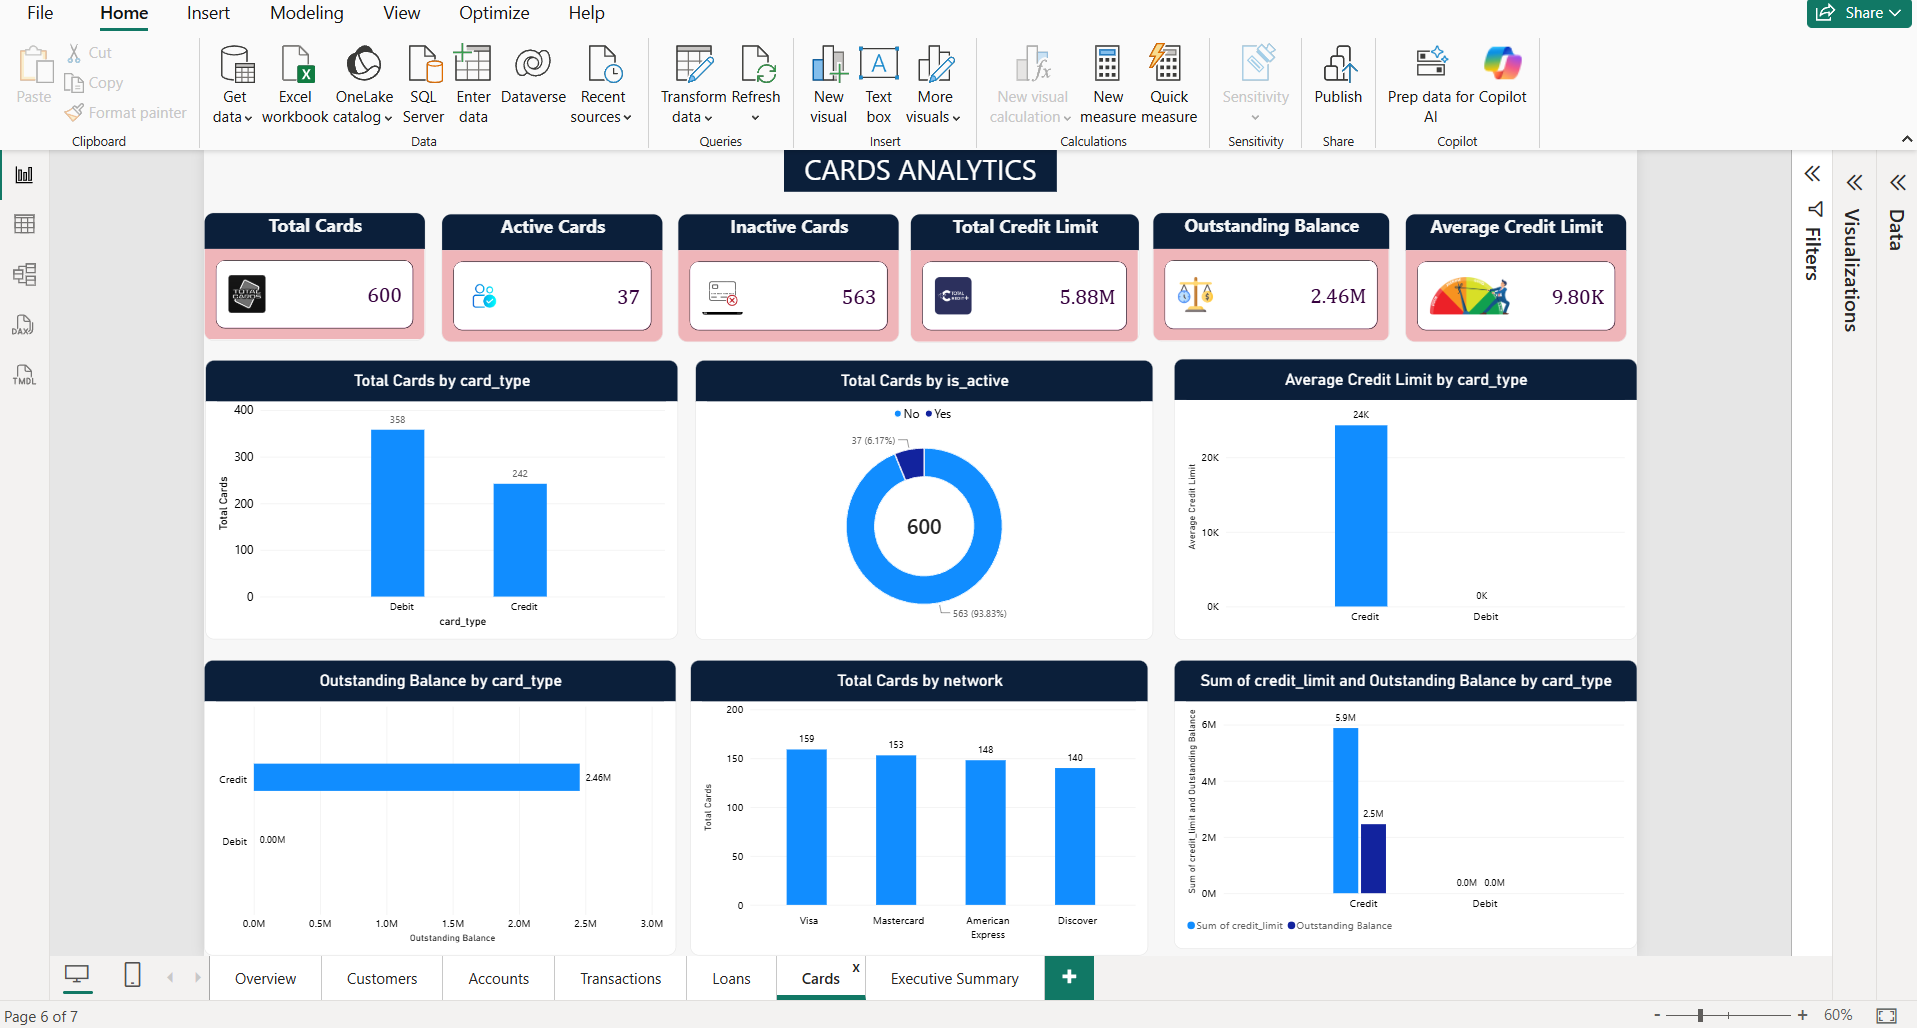

The page's visual inventory and layout, read from the dashboard file:
{"tool":"powerbi","page":{"name":"Cards","canvas":[1920,1080],"ordinal":5},"visuals":[{"type":"textbox","box":[776.3,0,365.6,56.1],"z":0},{"type":"cardVisual","title":"Total Cards","fields":{"Data":["cards (2).Total Cards"]},"box":[0,83.2,296.8,171.9],"z":1000},{"type":"cardVisual","title":"Active Cards","fields":{"Data":["cards (2).Active Cards"]},"box":[317.4,85.5,297,172],"z":2000},{"type":"cardVisual","title":"Inactive Cards","fields":{"Data":["cards (2).Inactive Cards"]},"box":[634.9,85.5,297,172],"z":3000},{"type":"cardVisual","title":"Total Credit Limit","fields":{"Data":["cards (2).Total Credit Limit"]},"box":[947.1,85.5,307,172.7],"z":4000},{"type":"cardVisual","title":"Outstanding Balance","fields":{"Data":["cards (2).Outstanding Balance"]},"box":[1271.5,83.7,317.4,172.7],"z":5000},{"type":"cardVisual","title":"Average Credit Limit","fields":{"Data":["cards (2).Average Credit Limit"]},"box":[1609.9,85.5,297,172],"z":6000},{"type":"clusteredColumnChart","fields":{"Category":["cards (2).card_type"],"Y":["cards (2).Total Cards"]},"box":[1.7,280.8,633.4,374.6],"z":7000},{"type":"donutChart","fields":{"Category":["cards (2).is_active"],"Y":["cards (2).Total Cards"]},"box":[657.6,280.8,614,375],"z":8000},{"type":"clusteredColumnChart","fields":{"Category":["cards (2).card_type"],"Y":["cards (2).Average Credit Limit"]},"box":[1299.4,279.1,620.9,376.7],"z":8001},{"type":"clusteredBarChart","fields":{"Category":["cards (2).card_type"],"Y":["cards (2).Outstanding Balance"]},"box":[0,683.7,633.1,395.9],"z":8002},{"type":"clusteredColumnChart","fields":{"Category":["cards (2).network"],"Y":["cards (2).Total Cards"]},"box":[652.3,683.7,614,395.9],"z":8003},{"type":"clusteredColumnChart","fields":{"Category":["cards (2).card_type"],"Y":["Sum(cards (2).credit_limit)","cards (2).Outstanding Balance"]},"box":[1299.4,683.7,620.7,387.3],"z":8004}]}

Visuals, with their boxes on the page's 1920x1080 design canvas (x1, y1, x2, y2). These are canvas units, not pixel positions in the 1917x1028 screenshot, which may show the page scaled, cropped or inside an application window:
textbox: crop(776, 0, 1142, 56)
"Total Cards" cardVisual: crop(0, 83, 297, 255)
"Active Cards" cardVisual: crop(317, 86, 614, 258)
"Inactive Cards" cardVisual: crop(635, 86, 932, 258)
"Total Credit Limit" cardVisual: crop(947, 86, 1254, 258)
"Outstanding Balance" cardVisual: crop(1272, 84, 1589, 256)
"Average Credit Limit" cardVisual: crop(1610, 86, 1907, 258)
clusteredColumnChart - cards (2).card_type x cards (2).Total Cards: crop(2, 281, 635, 655)
donutChart - cards (2).is_active x cards (2).Total Cards: crop(658, 281, 1272, 656)
clusteredColumnChart - cards (2).card_type x cards (2).Average Credit Limit: crop(1299, 279, 1920, 656)
clusteredBarChart - cards (2).card_type x cards (2).Outstanding Balance: crop(0, 684, 633, 1080)
clusteredColumnChart - cards (2).network x cards (2).Total Cards: crop(652, 684, 1266, 1080)
clusteredColumnChart - cards (2).card_type x Sum(cards (2).credit_limit): crop(1299, 684, 1920, 1071)
